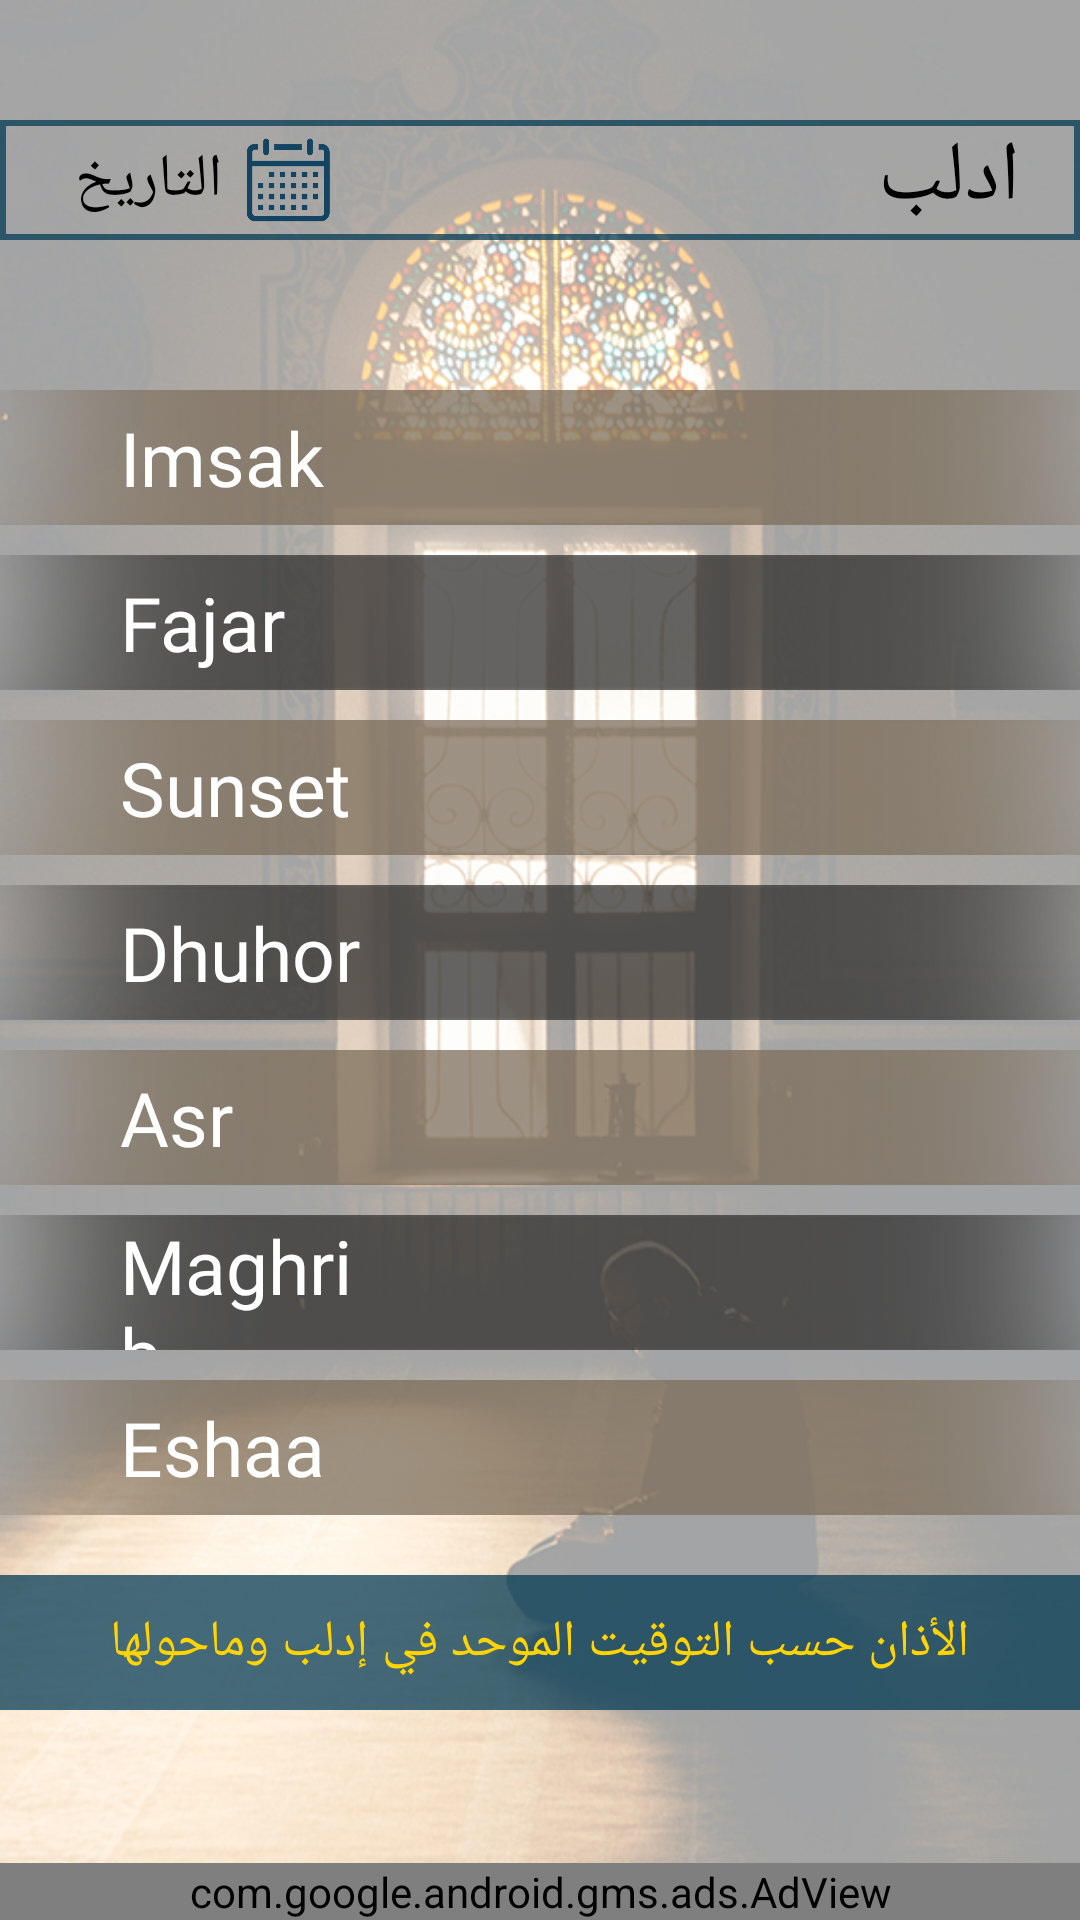

Screen size 1080 × 1920. Icon name, then its center in pixels as [x,y]:
calender: [288,179]
